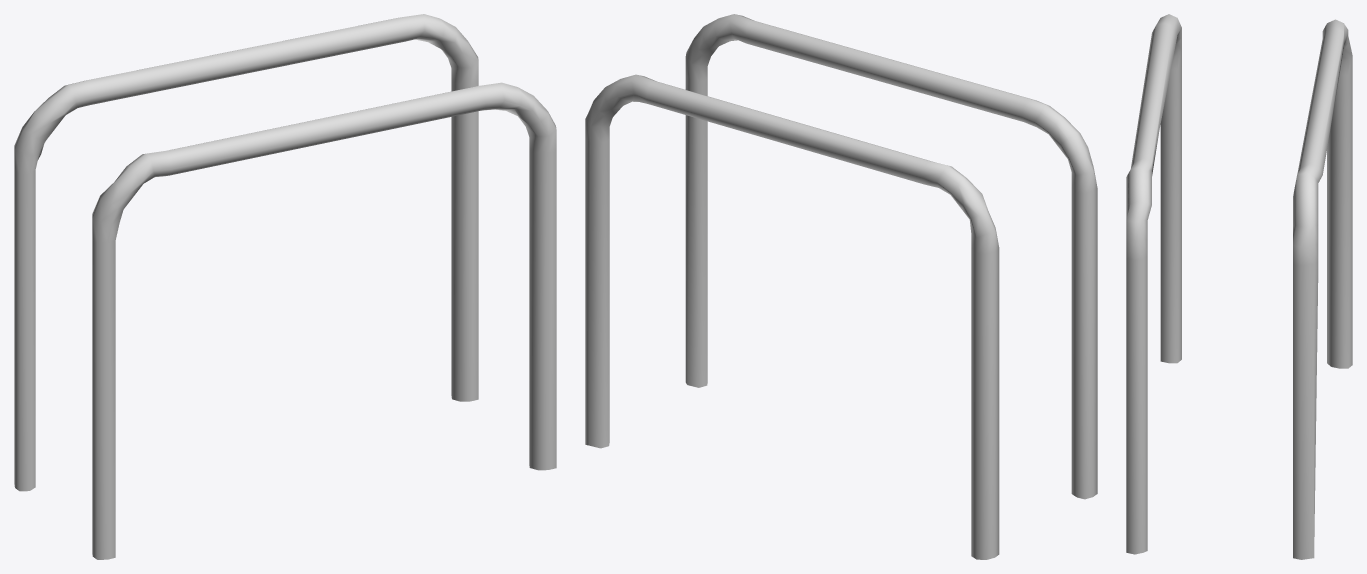
File: турник11.glb
3 views of the same model, side by side, from view 1: azimuth 30°, elevation 25°; view 2: azimuth 150°, elevation 25°; view 3: azimuth 270°, elevation 25° (orthographic). The views are drawn at different scales.
Visible parts, largest first — view 1: SM_77_08_0015001_24789_Flora.003; view 2: SM_77_08_0015001_24789_Flora.003; view 3: SM_77_08_0015001_24789_Flora.003.
Boxes of the visible parts, box(x1,y1,x2,y2) form: SM_77_08_0015001_24789_Flora.003: box(14, 14, 556, 559); SM_77_08_0015001_24789_Flora.003: box(585, 14, 1097, 559); SM_77_08_0015001_24789_Flora.003: box(1126, 14, 1352, 559).
Size of the model in its own units: 1.3 by 1.07 by 0.6034.
Materials: 1 (1 with a texture image).
